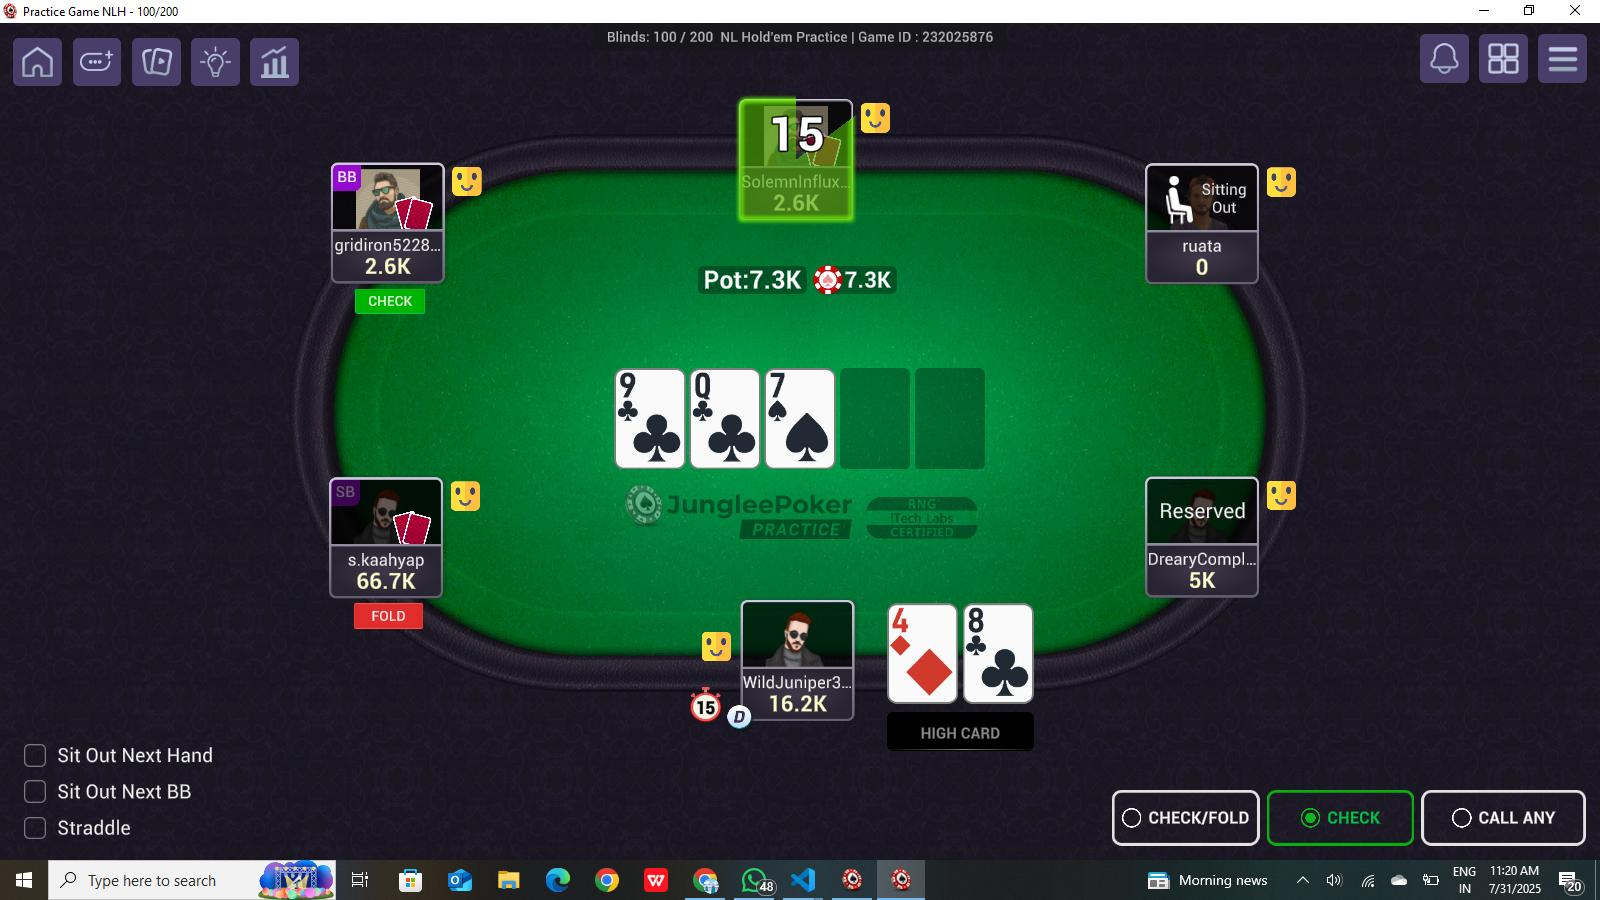flop1_rank: (615, 368, 668, 397)
flop1_suite_club: (629, 410, 681, 465)
flop2_rank: (690, 370, 736, 405)
flop2_suite_club: (705, 410, 758, 467)
flop3_rank: (765, 368, 810, 400)
flop3_suite_spades: (784, 405, 835, 465)
game_id: (851, 25, 1019, 58)
position_BB: (332, 167, 364, 190)
position_SB: (332, 480, 364, 510)
total_pot: (697, 265, 903, 298)
villian1_name: (336, 551, 440, 570)
villian1_stack: (342, 570, 438, 597)
villian2_name: (332, 229, 443, 255)
villian2_stack: (342, 254, 430, 284)
villian3_name: (742, 170, 848, 191)
villian3_stack: (762, 188, 829, 215)
villian4_name: (1145, 225, 1262, 255)
villian4_stack: (1174, 255, 1229, 280)
villian5_name: (1143, 546, 1258, 571)
villian5_stack: (1171, 570, 1243, 598)
